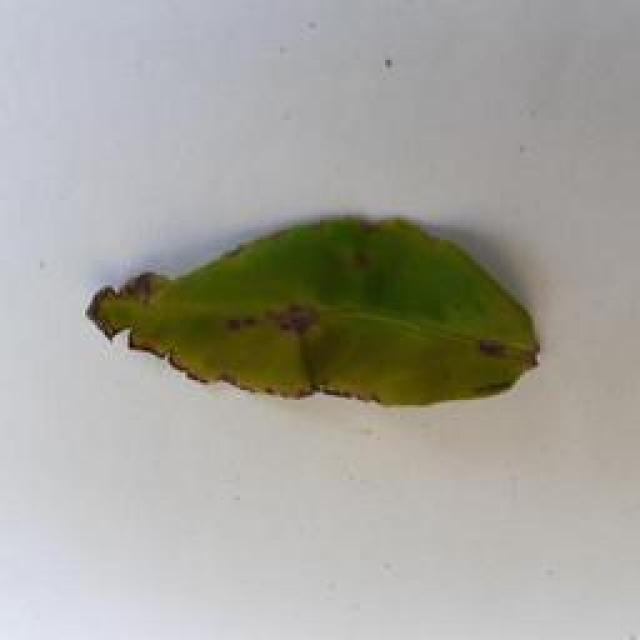Helopeltis: (84, 197, 566, 432)
